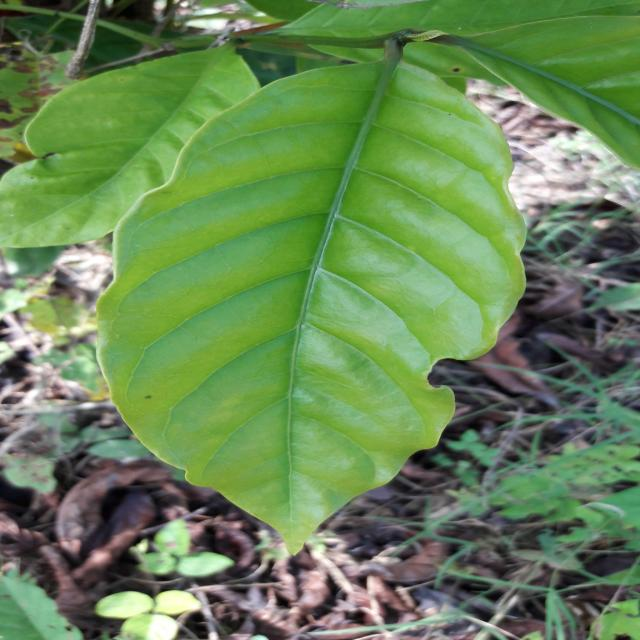Sanas: (96, 63, 527, 557)
